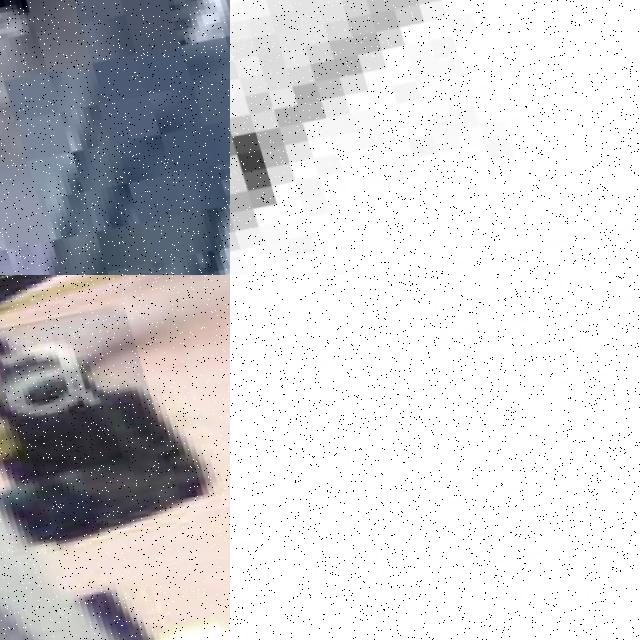0: (0, 0, 230, 275)
drone: (230, 275, 640, 640), (230, 0, 640, 275), (0, 275, 230, 640)
